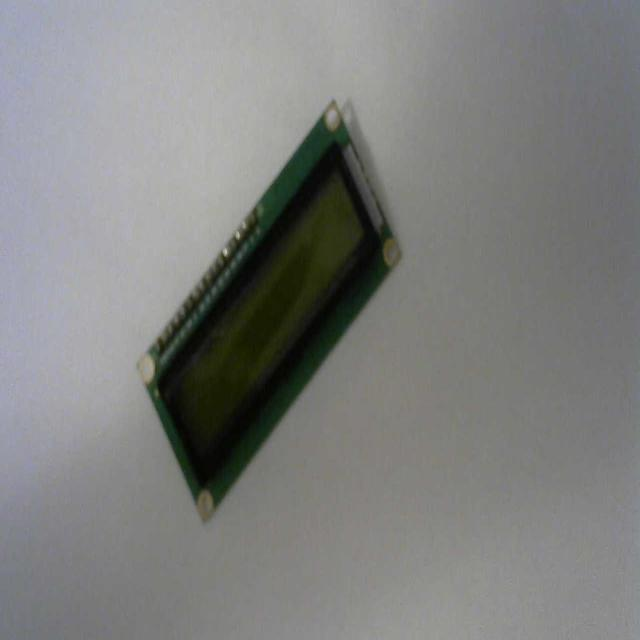lcd: (136, 96, 402, 522)
